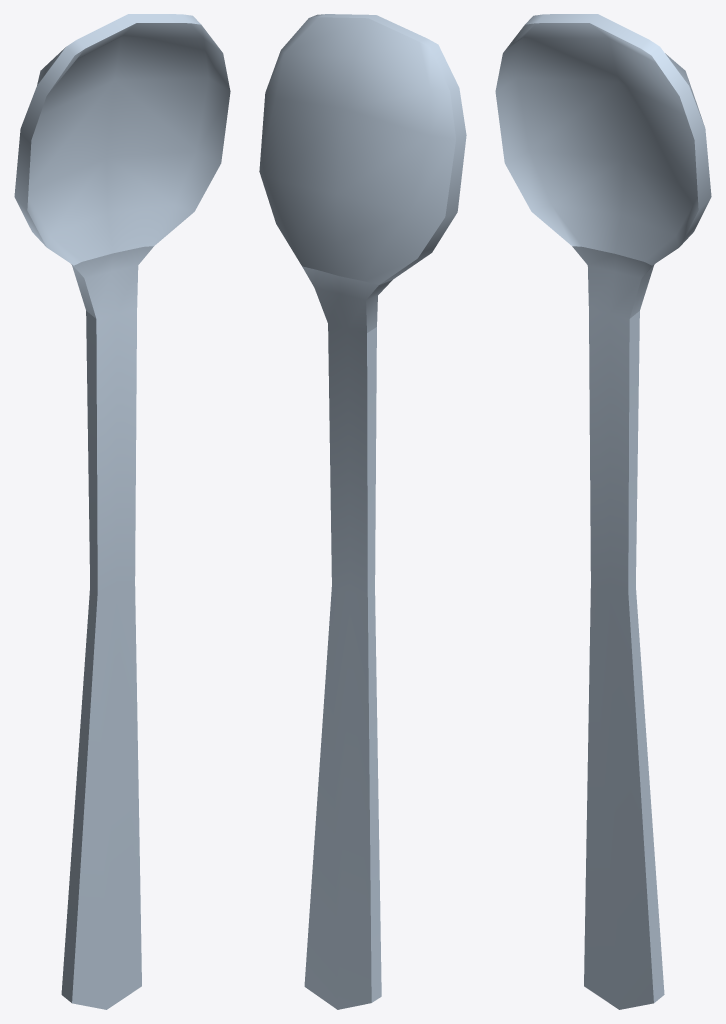
File: sendok.fbx
The picture shows the model from 3 angles, left to right: view 1: azimuth 30°, elevation 25°; view 2: azimuth 150°, elevation 25°; view 3: azimuth 330°, elevation 25°; orthographic projection. The views are drawn at different scales.
Parts seen in each view (by area): view 1: sendok; view 2: sendok; view 3: sendok.
Boxes of the visible parts, x1,y1,x2,y2 form: sendok: [14, 14, 230, 1009]; sendok: [259, 14, 466, 1009]; sendok: [495, 14, 711, 1009].
Bounding box in the file's own units: 7.86 × 38.14 × 2.91.
